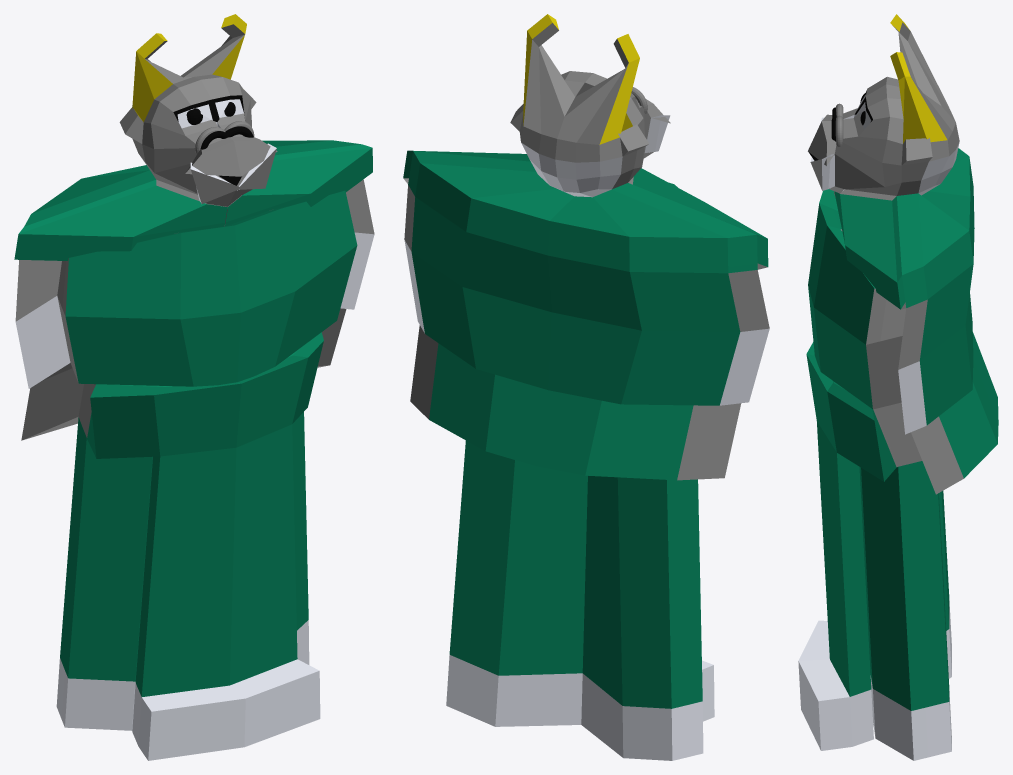
File: rocky.fbx
The picture shows the model from 3 angles, left to right: view 1: azimuth 30°, elevation 25°; view 2: azimuth 150°, elevation 25°; view 3: azimuth 270°, elevation 25°; orthographic projection. The views are drawn at different scales.
Parts seen in each view (by area): view 1: Roundcube; view 2: Roundcube; view 3: Roundcube.
Boxes of the visible parts, x1,y1,x2,y2 form: Roundcube: (14,14,374,760); Roundcube: (403,14,769,760); Roundcube: (798,14,998,760).
Bounding box in the file's own units: 406 × 743 × 199.
